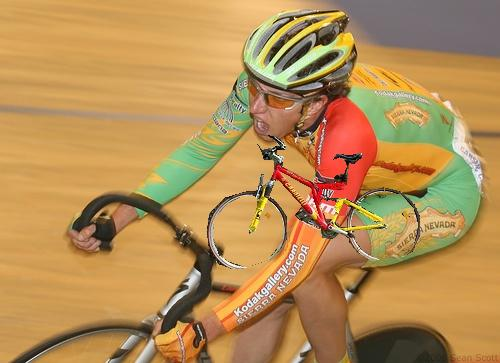tampered: (208, 136, 420, 269)
